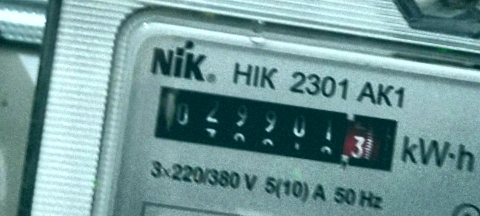0: (171, 97, 193, 127), (289, 109, 309, 140)
1: (320, 113, 337, 142)
2: (201, 96, 223, 125)
3: (347, 132, 368, 160)
9: (231, 100, 251, 129), (262, 106, 279, 135)
screen: (143, 74, 410, 184)
